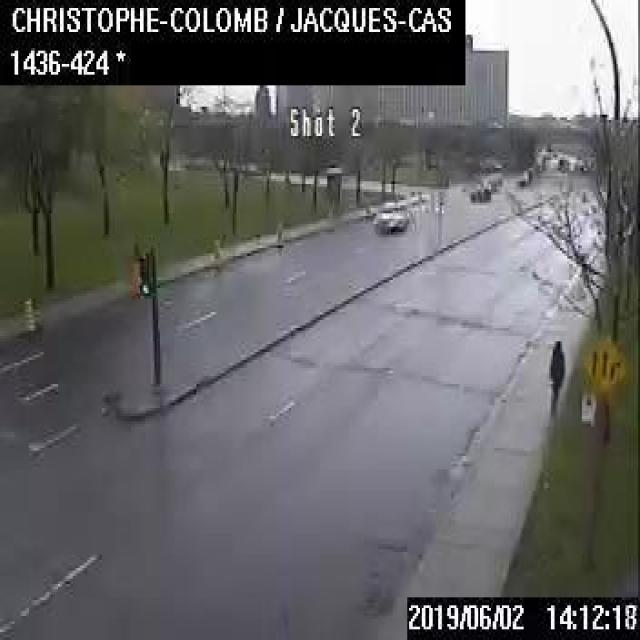construction: (20, 296, 35, 331), (128, 258, 140, 298), (274, 219, 284, 248), (211, 234, 220, 266), (364, 202, 371, 218)
pedestrian: (547, 338, 564, 418)
vehicle: (375, 200, 409, 229), (467, 181, 491, 200)
